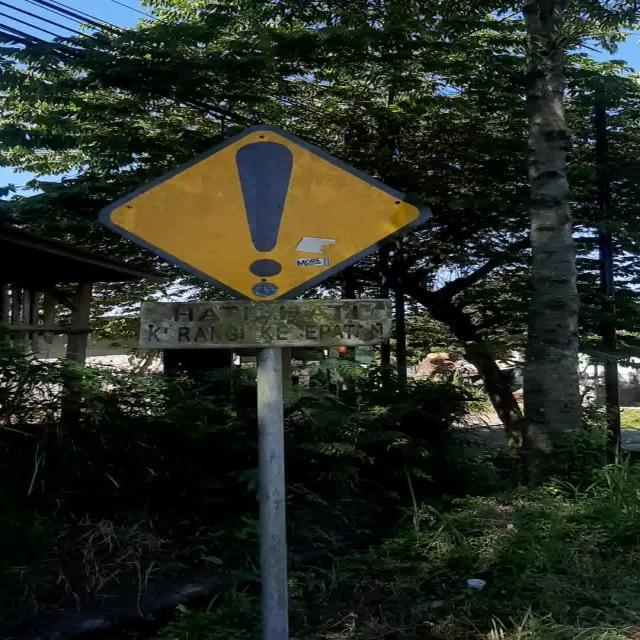Hati-Hati: (99, 122, 433, 298)
